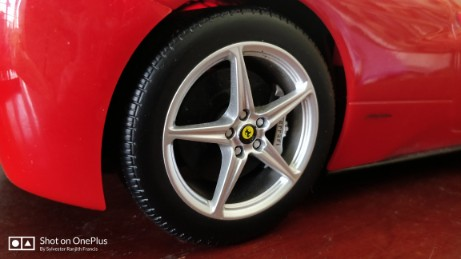aligned_wheel: (111, 1, 338, 246)
